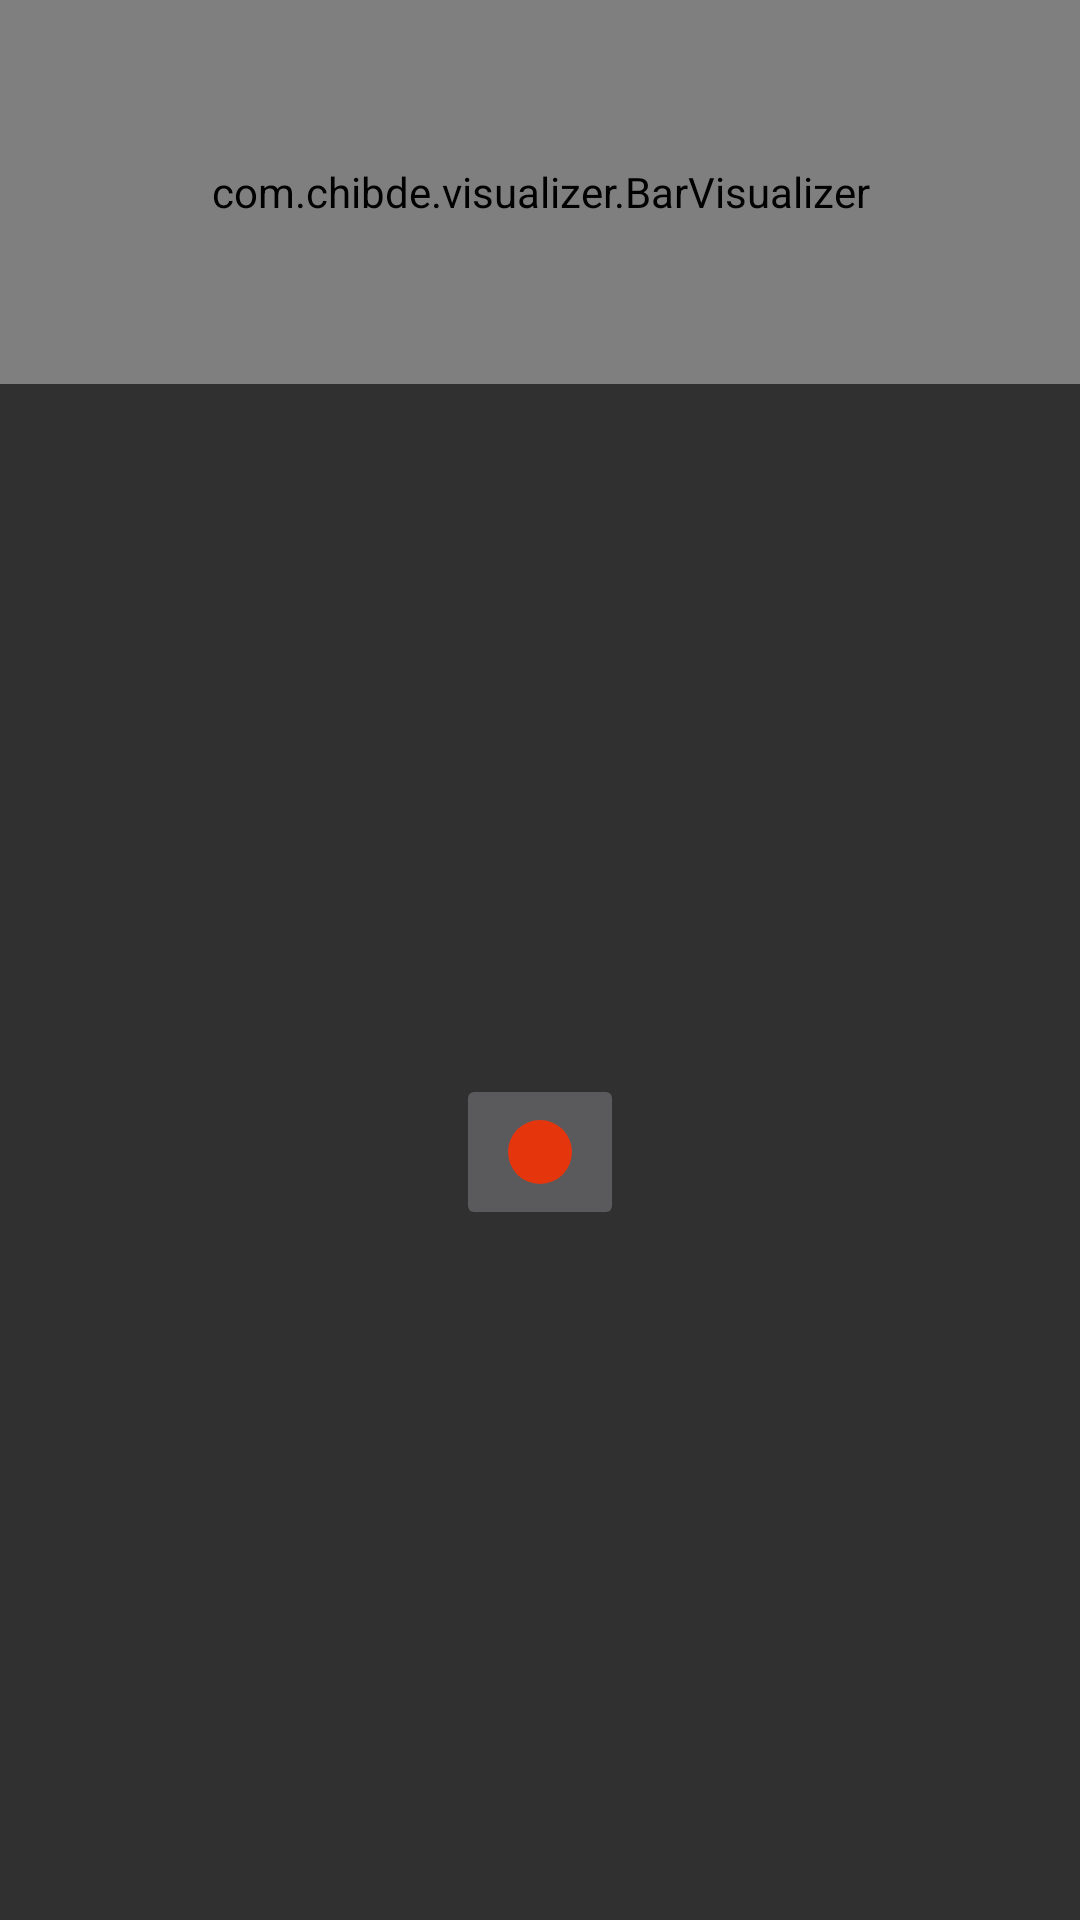

Locate icon controls on the screen. Image size 1080 x 1920, boxes as bbox(x1, y1, x2, y2).
record: bbox(468, 1092, 612, 1212)
